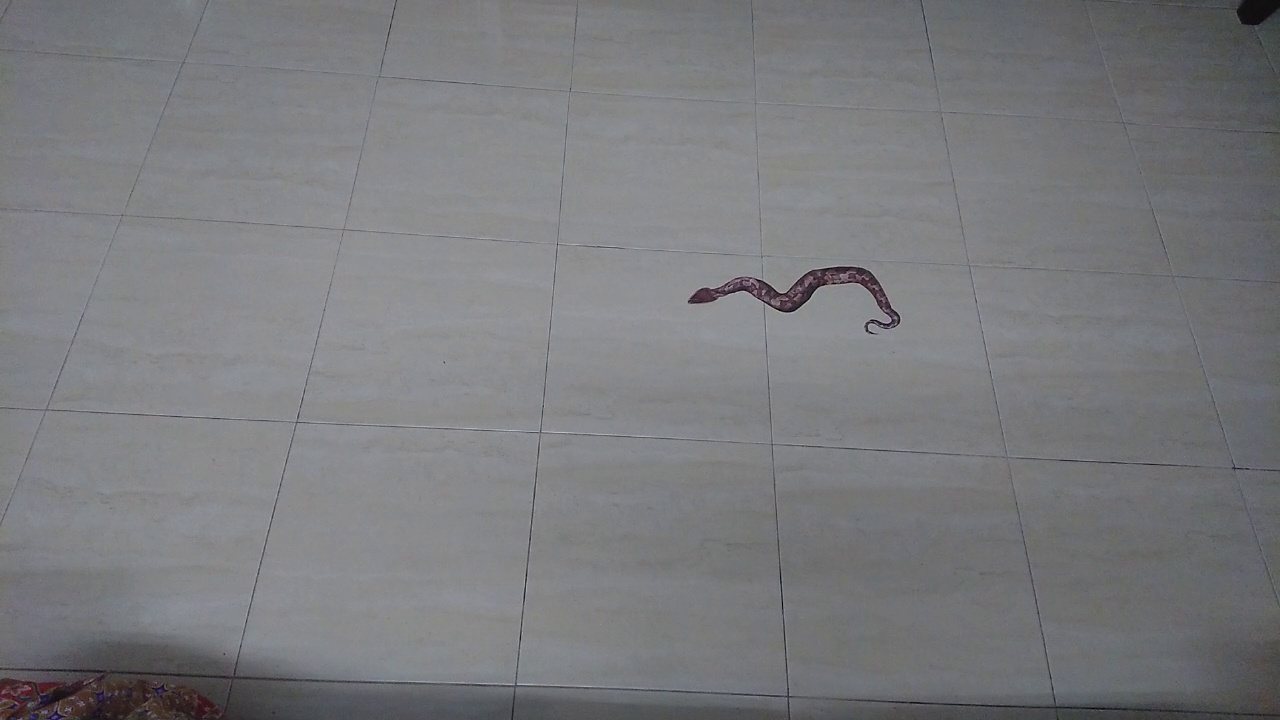snake: (672, 252, 911, 345)
